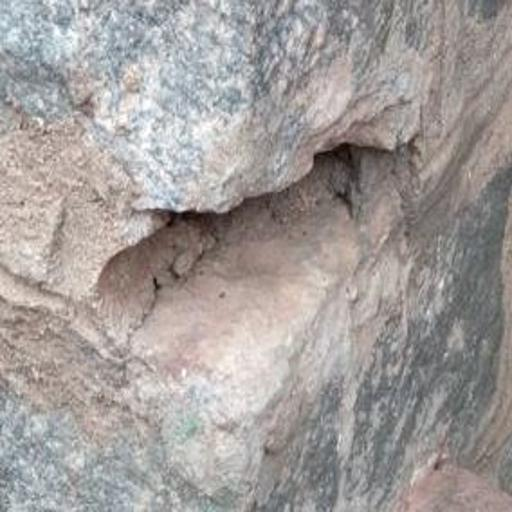spalling: (67, 84, 411, 440)
